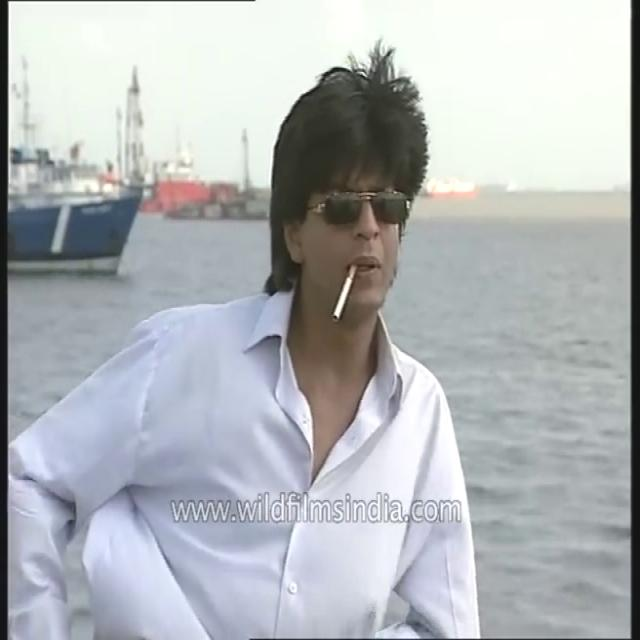Smooking: (319, 262, 371, 330)
